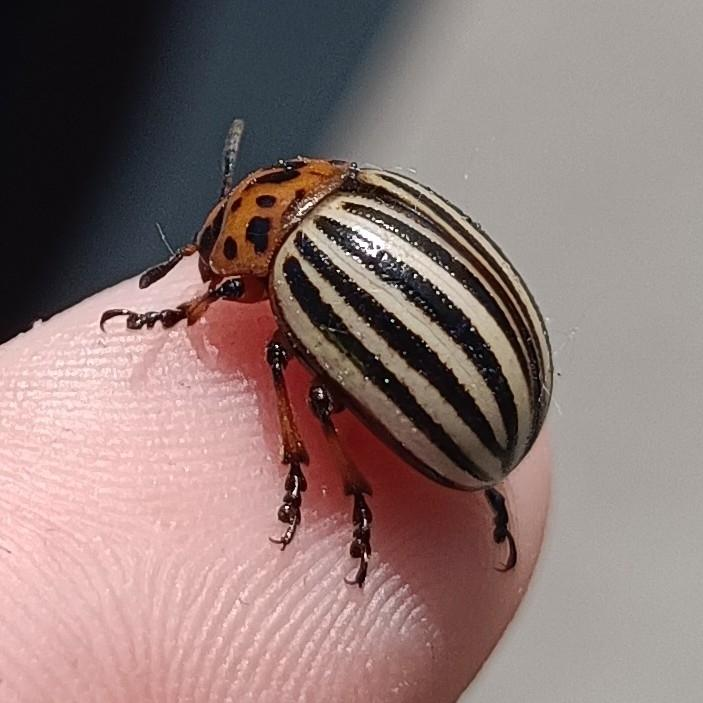potato_beetle: (71, 40, 613, 619)
